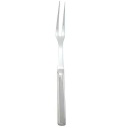Fork: (42, 1, 78, 124)
